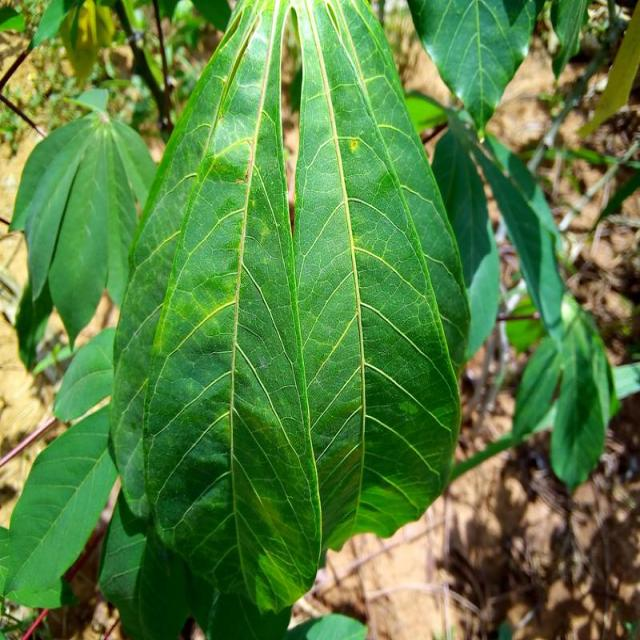cassava leaf: (105, 0, 472, 630), (9, 87, 159, 366)
